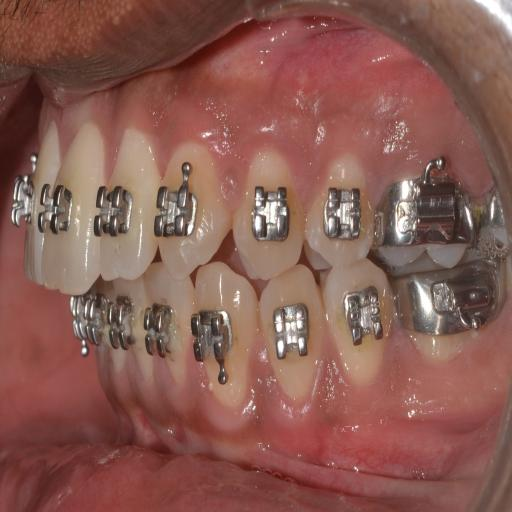correct_brace: (231, 153, 311, 281), (154, 168, 197, 254), (93, 182, 138, 245), (38, 173, 70, 253)
incorrect_brace: (92, 127, 159, 289), (245, 176, 292, 250)
